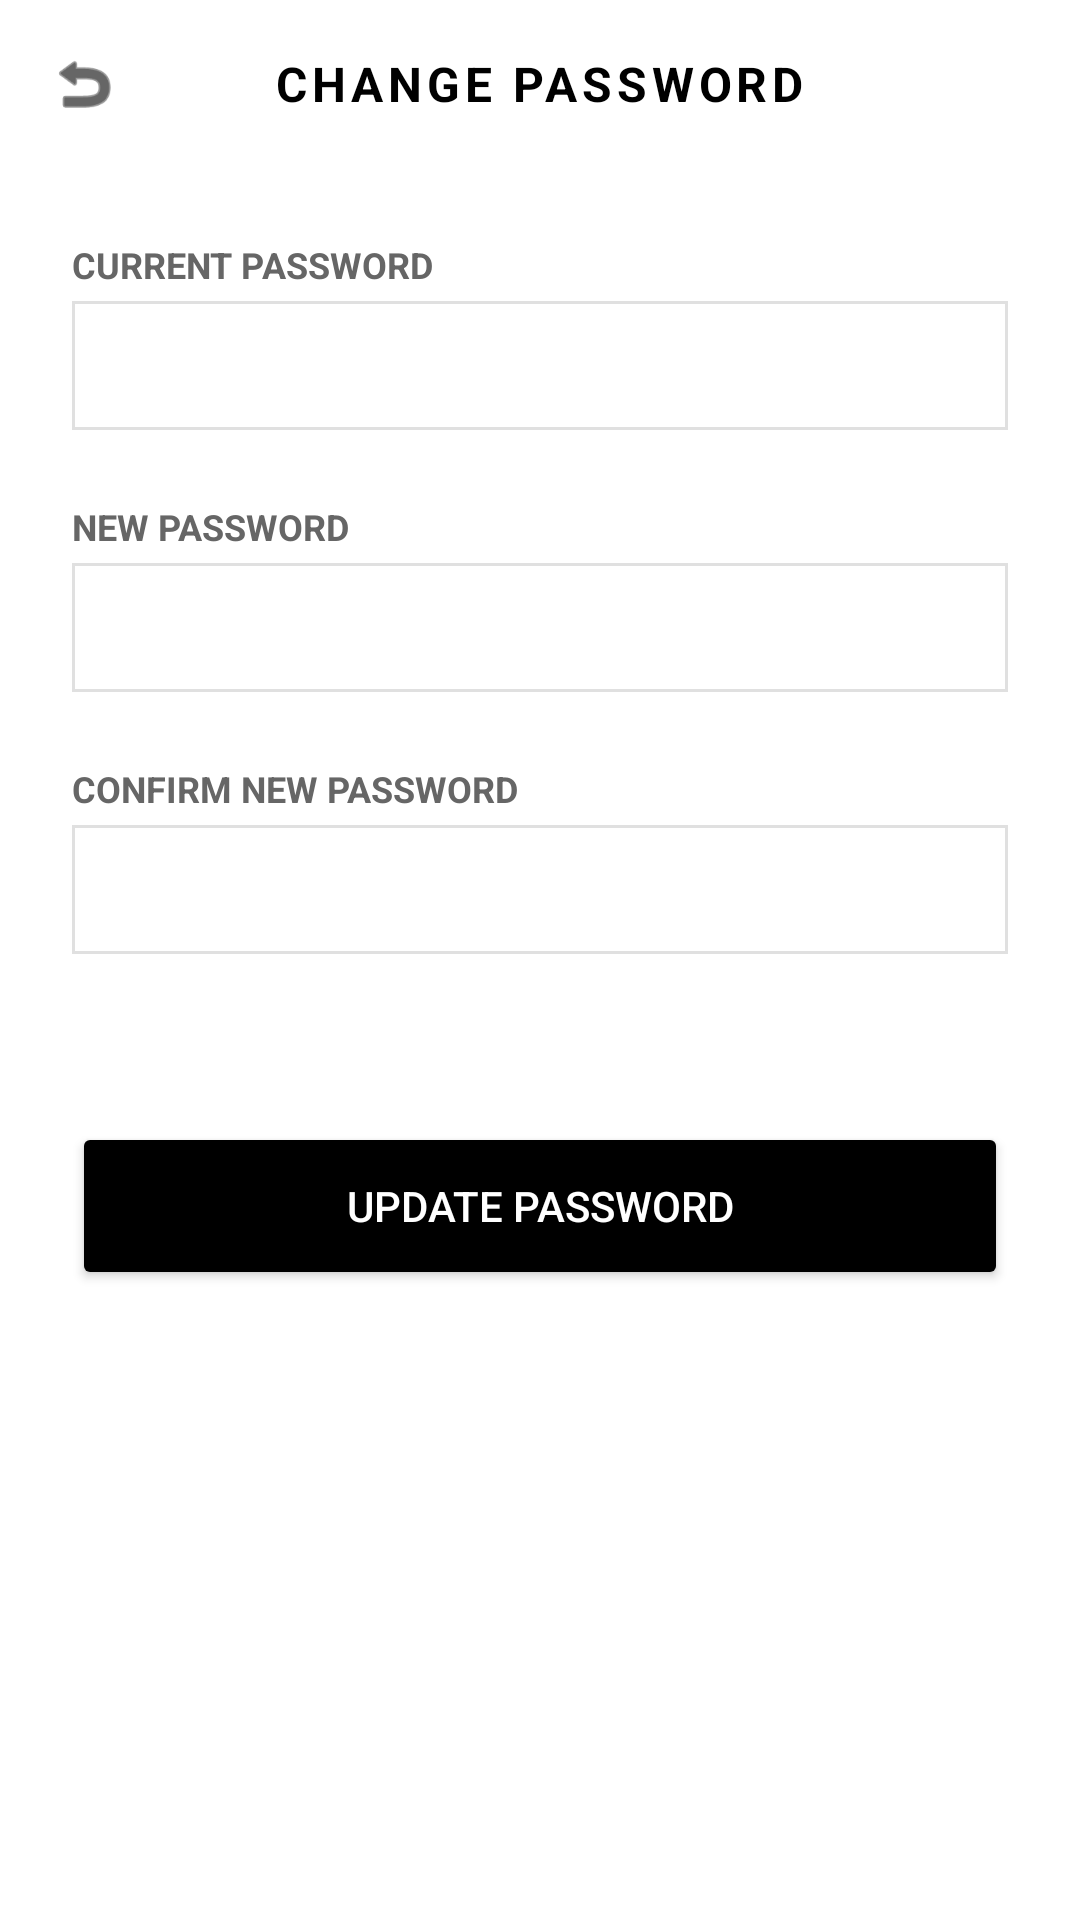

Named icons in this screenshot (1080x1920) and their centers, point (x, y):
revert: point (85, 84)
